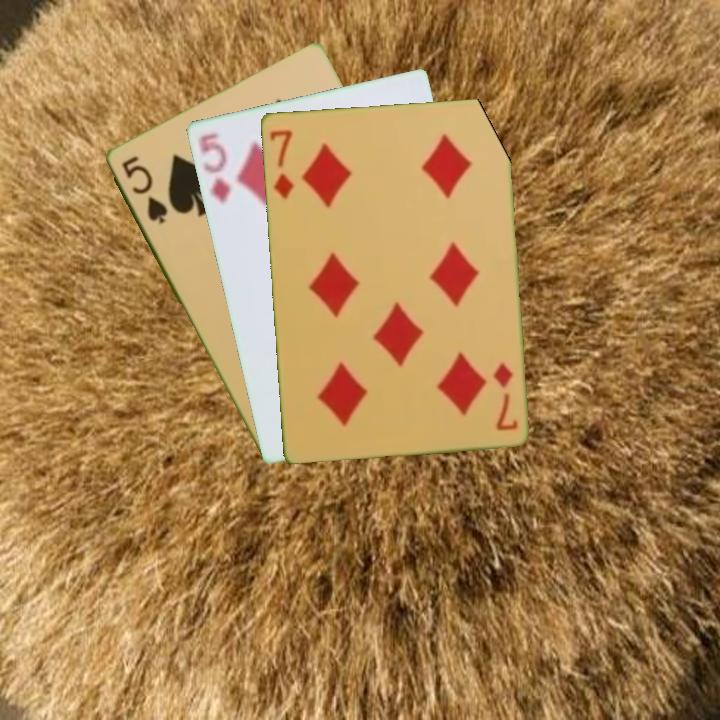5d: (194, 129, 234, 207)
5s: (117, 152, 171, 227)
7d: (266, 125, 296, 202), (489, 359, 520, 433)
